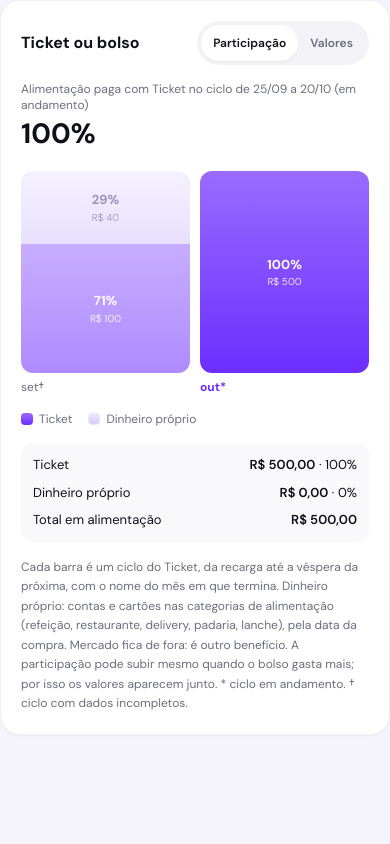
foodSourceByCycle › mostra o ciclo sem recarga lançada, marcado como incompleto a partir do primeiro dado
Click the button with aria-label "Ciclo de 27/08" at (106, 283), box top-left (21, 171), bottom-right (190, 395)
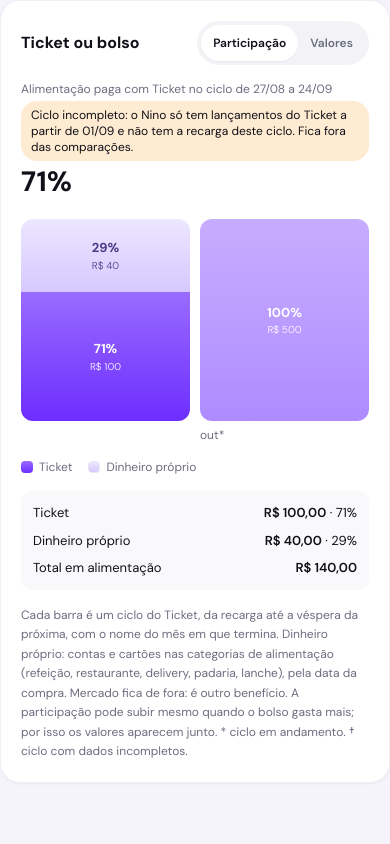
Check: the text with test id "ticket-vs-own-incomplete" shows "a partir de 01/09", box top-left (21, 101), bottom-right (369, 161)
